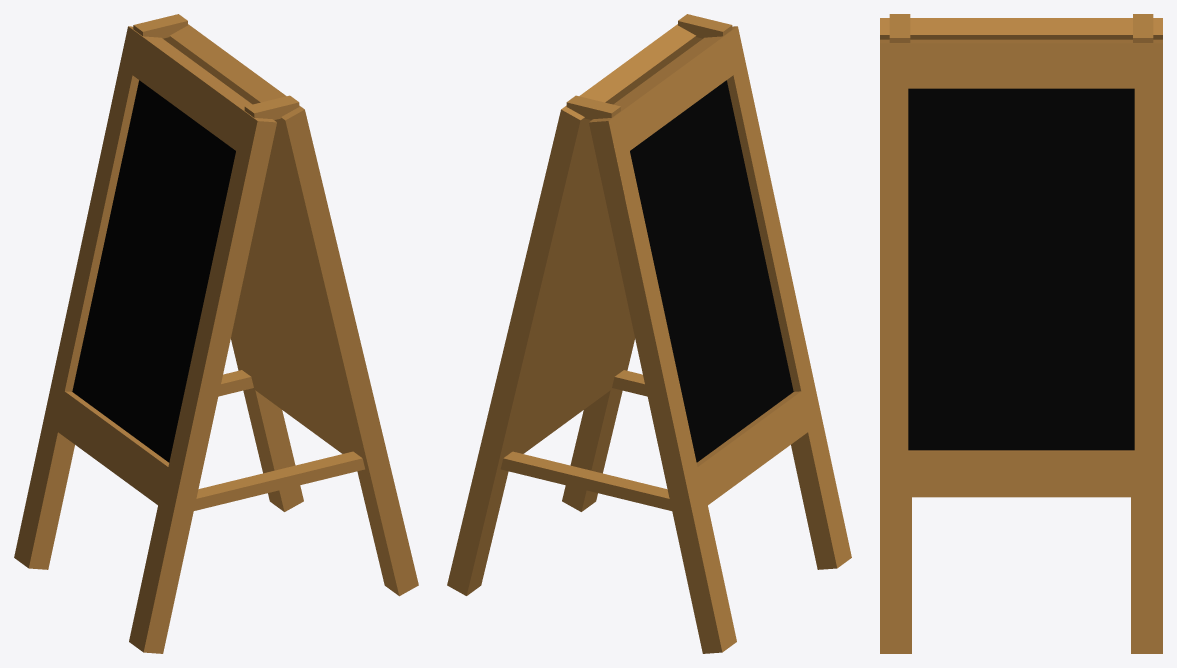
Rendered from SignBoard.fbx.
3 views of the same model, side by side, from view 1: azimuth 30°, elevation 25°; view 2: azimuth 150°, elevation 25°; view 3: azimuth 270°, elevation 25° (orthographic). The views are drawn at different scales.
Visible parts, largest first — view 1: SignBoard; view 2: SignBoard; view 3: SignBoard.
Boxes of the visible parts, box(x1,y1,x2,y2) form: SignBoard: box(14, 14, 418, 653); SignBoard: box(447, 14, 851, 653); SignBoard: box(880, 14, 1162, 653).
Size of the model in its own units: 6.09 by 10.87 by 4.96.
Materials: 1 (1 with a texture image).
